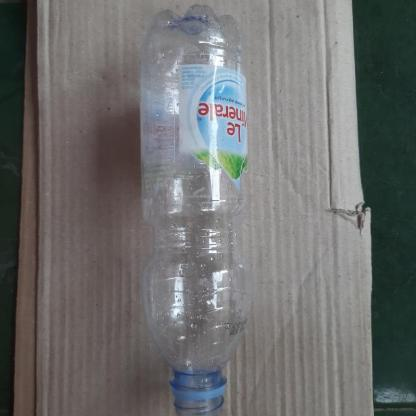Plastic Bottle: (106, 0, 268, 416)
